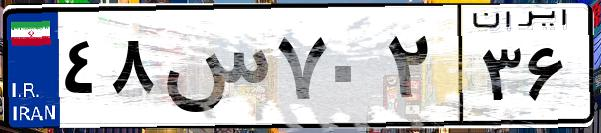0: (330, 28, 385, 110)
2: (385, 28, 445, 110)
3: (475, 38, 525, 113)
4: (57, 26, 110, 100)
6: (525, 38, 570, 115)
7: (270, 28, 330, 110)
8: (110, 28, 158, 98)
س: (158, 20, 270, 120)
